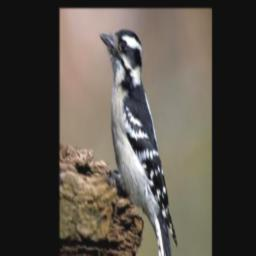Woodpecker: (99, 25, 178, 256)
